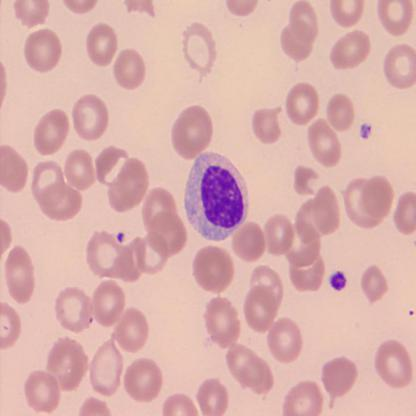Myelocyte: (186, 150, 250, 241)
